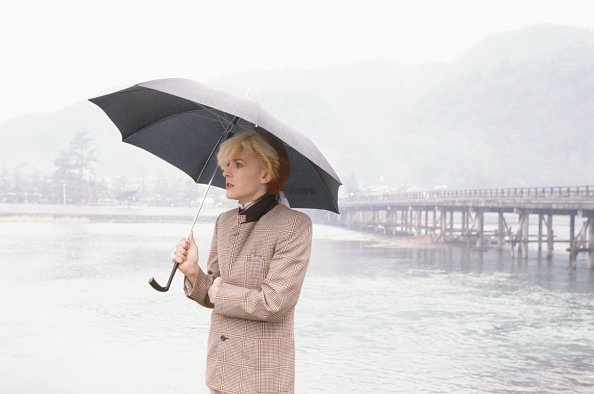em pe: (161, 117, 304, 394)
